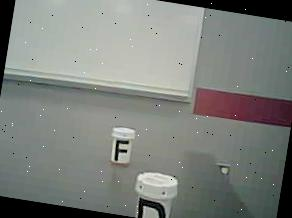Bottle D: (127, 166, 193, 218)
Bottle F: (102, 121, 142, 172)
